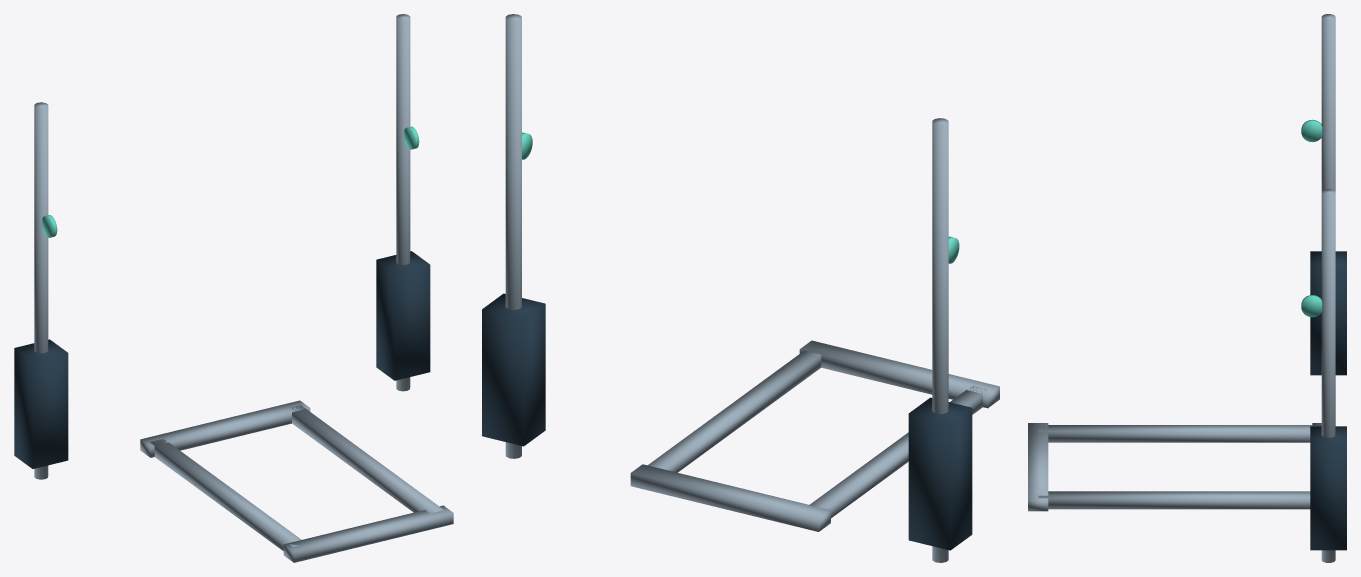
The model's file is machine_b_cable_fly.glb.
The picture shows the model from 3 angles, left to right: view 1: azimuth 30°, elevation 25°; view 2: azimuth 150°, elevation 25°; view 3: azimuth 270°, elevation 25°; orthographic projection. The views are drawn at different scales.
Visible parts, largest first — view 1: base, stack_R, stack_L, tower_R, tower_L; view 2: base, stack_R, stack_L, tower_L, tower_R; view 3: base, stack_L, tower_L, stack_R, tower_R, wheel_L, wheel_R.
Boxes of the visible parts, x1=… form: base: x1=140, y1=400, x2=453, y2=562; stack_R: x1=14, y1=339, x2=68, y2=468; stack_L: x1=376, y1=251, x2=430, y2=380; tower_R: x1=34, y1=102, x2=48, y2=479; tower_L: x1=396, y1=14, x2=410, y2=391; base: x1=630, y1=340, x2=999, y2=531; stack_R: x1=908, y1=397, x2=972, y2=550; stack_L: x1=482, y1=293, x2=545, y2=446; tower_L: x1=505, y1=14, x2=521, y2=458; tower_R: x1=932, y1=118, x2=948, y2=562; base: x1=1028, y1=423, x2=1321, y2=511; stack_L: x1=1310, y1=426, x2=1346, y2=550; tower_L: x1=1321, y1=189, x2=1335, y2=562; stack_R: x1=1310, y1=251, x2=1346, y2=375; tower_R: x1=1321, y1=14, x2=1335, y2=191; wheel_L: x1=1301, y1=295, x2=1322, y2=317; wheel_R: x1=1301, y1=119, x2=1322, y2=141.
Size of the model in its own units: 2.24 by 2 by 1.57.
